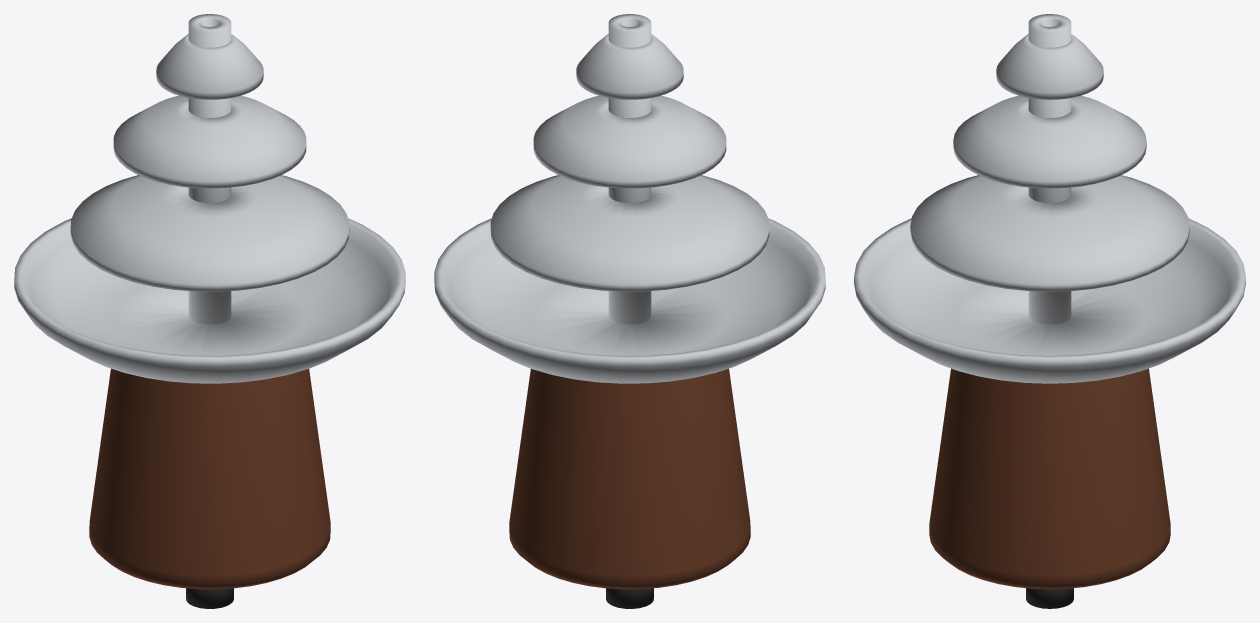
The model's file is full.fbx.
3 views of the same model, side by side, from view 1: azimuth 30°, elevation 25°; view 2: azimuth 150°, elevation 25°; view 3: azimuth 270°, elevation 25° (orthographic).
Parts seen in each view (by area): view 1: Tapered motor pedestal, Shallow open collection bowl, Lower cascade dome tier, Middle cascade dome tier, Upper cascade dome tier, Continuous hollow central neck, Small foot 2; view 2: Tapered motor pedestal, Shallow open collection bowl, Lower cascade dome tier, Middle cascade dome tier, Upper cascade dome tier, Continuous hollow central neck, Small foot 1; view 3: Tapered motor pedestal, Shallow open collection bowl, Lower cascade dome tier, Middle cascade dome tier, Upper cascade dome tier, Continuous hollow central neck, Small foot 0.
Boxes of the visible parts, x1,y1,x2,y2 form: Tapered motor pedestal: [89, 368, 330, 589]; Shallow open collection bowl: [14, 218, 405, 383]; Lower cascade dome tier: [70, 175, 349, 291]; Middle cascade dome tier: [113, 95, 306, 188]; Upper cascade dome tier: [156, 34, 263, 99]; Continuous hollow central neck: [188, 14, 231, 324]; Small foot 2: [186, 588, 233, 608]; Tapered motor pedestal: [509, 368, 750, 589]; Shallow open collection bowl: [434, 218, 825, 383]; Lower cascade dome tier: [490, 175, 769, 291]; Middle cascade dome tier: [533, 95, 726, 188]; Upper cascade dome tier: [576, 34, 683, 99]; Continuous hollow central neck: [608, 14, 651, 324]; Small foot 1: [606, 588, 653, 608]; Tapered motor pedestal: [929, 368, 1170, 589]; Shallow open collection bowl: [854, 218, 1245, 383]; Lower cascade dome tier: [910, 175, 1189, 291]; Middle cascade dome tier: [953, 95, 1146, 188]; Upper cascade dome tier: [996, 34, 1103, 99]; Continuous hollow central neck: [1028, 14, 1071, 324]; Small foot 0: [1026, 588, 1073, 608].
Bounding box in the file's own units: 14.61 × 22.23 × 14.61.
